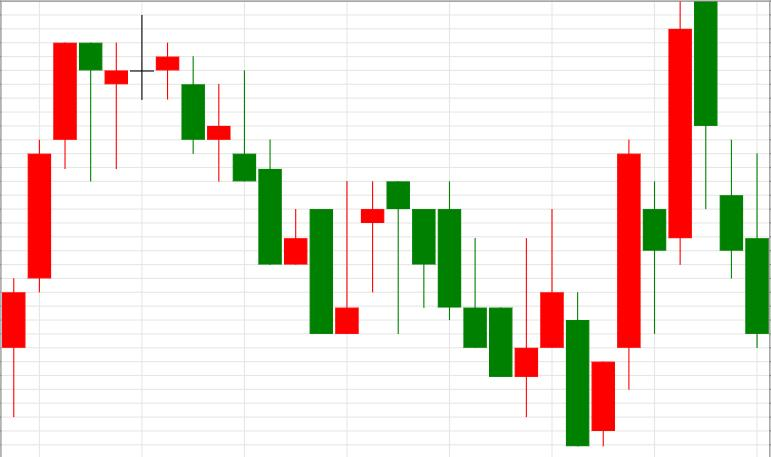inverse_hammer_rise: (181, 56, 359, 334)
